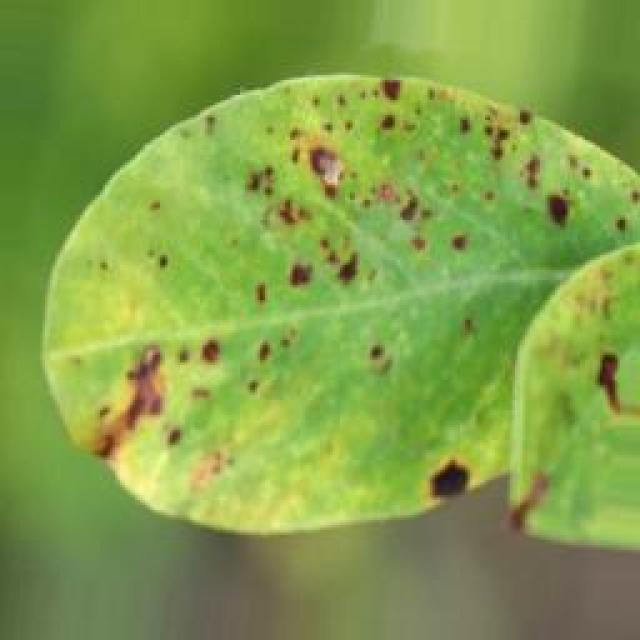Yellowish: (75, 60, 637, 541)
